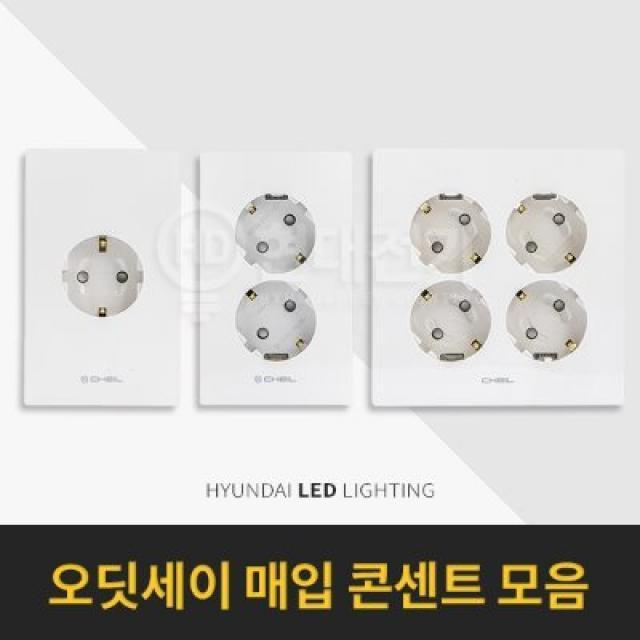typeb: (370, 134, 630, 419), (189, 137, 362, 428), (23, 136, 188, 436)
